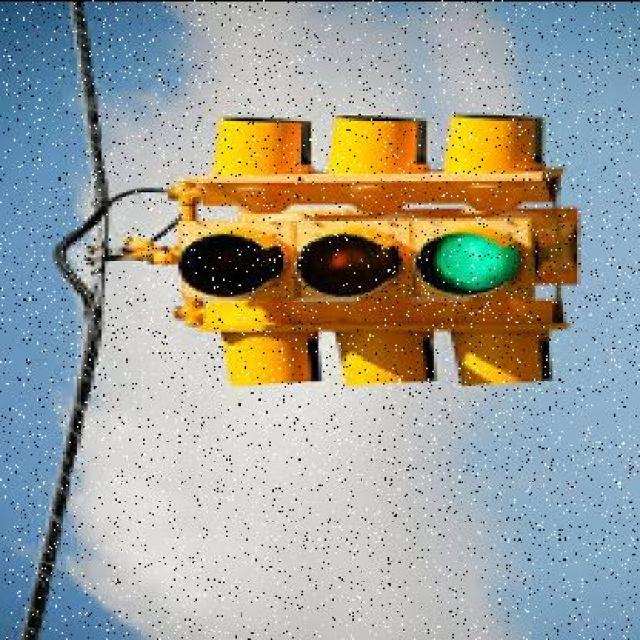green-light: (158, 185, 640, 381)
